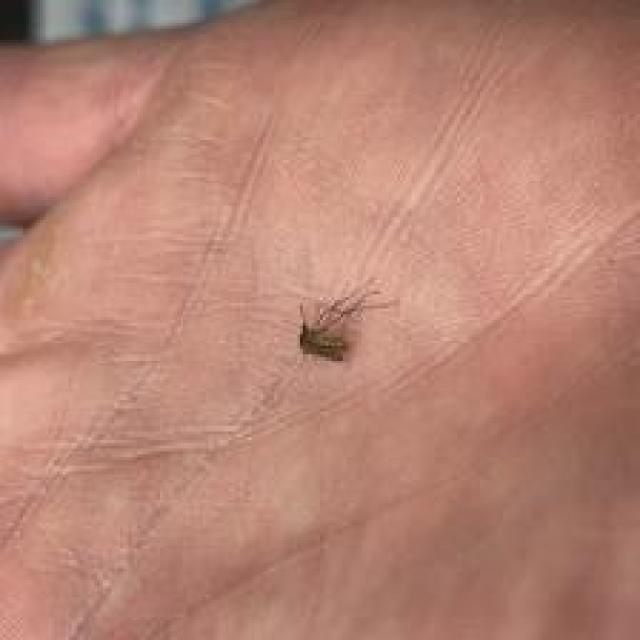Culex: (294, 277, 392, 363)
